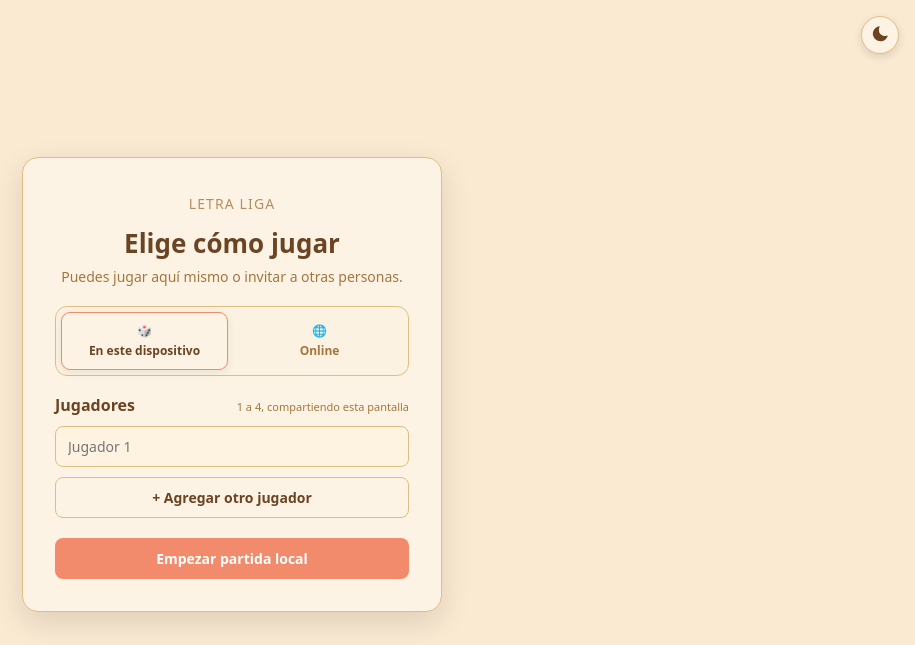
Test: lobby online › muestra sólo el flujo elegido para evitar acciones duplicadas
This screenshot has width=915, height=645.
Check: the button "Empezar partida local" is shown, box [55, 538, 409, 578]
Check: the field with placeholder "¿Cómo te llamas?" is not shown
Click the button "🌐 Online".
click(320, 340)  # box [236, 312, 403, 370]
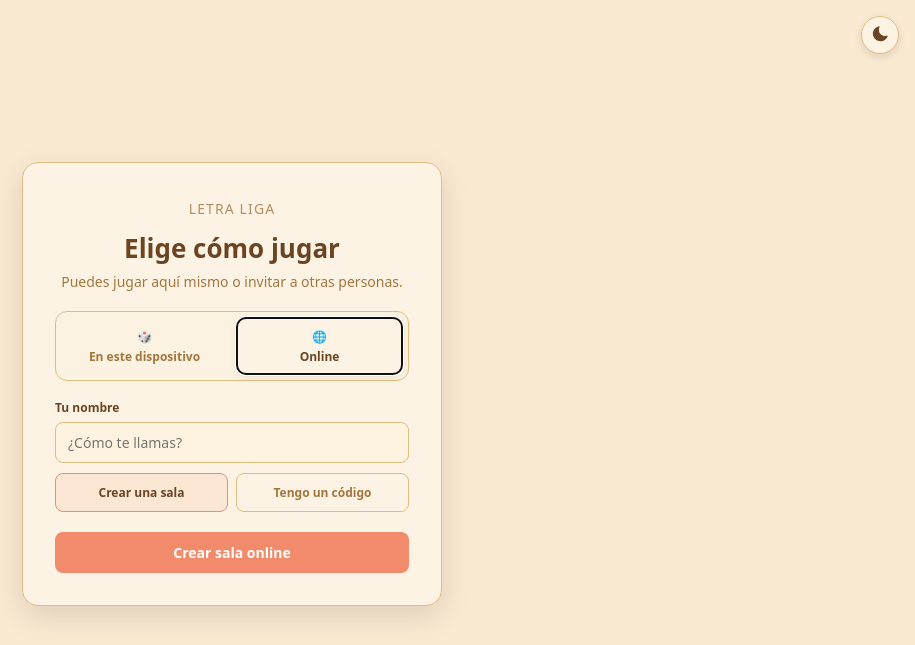
Check: the button "Empezar partida local" is gone
Check: the button "Crear sala online" is shown, box [55, 532, 409, 573]
